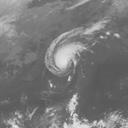cyclone: (43, 18, 114, 80)
